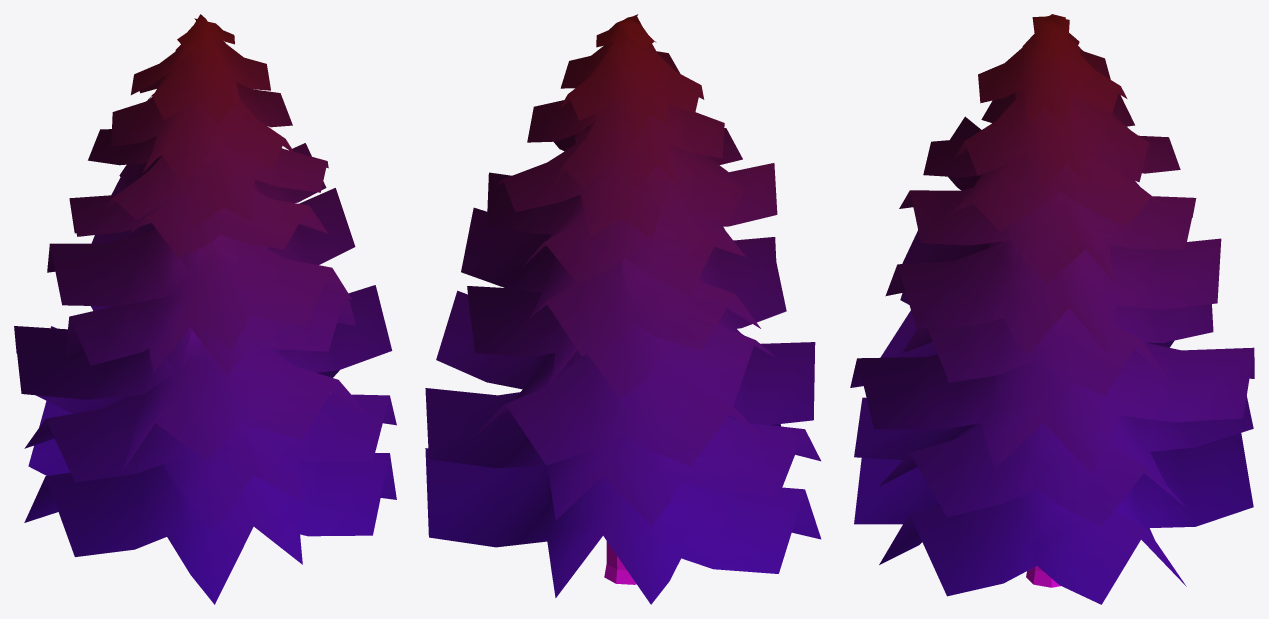
Rendered from synty-tree-pine-02.gltf.
3 renders of one model, left to right at view 1: azimuth 30°, elevation 25°; view 2: azimuth 150°, elevation 25°; view 3: azimuth 270°, elevation 25°, orthographic. The views are drawn at different scales.
Parts seen in each view (by area): view 1: SM_Tree_Pine_02; view 2: SM_Tree_Pine_02; view 3: SM_Tree_Pine_02.
Boxes of the visible parts, left/top/right/bottom form: SM_Tree_Pine_02: left=14, top=14, right=396, bottom=604; SM_Tree_Pine_02: left=425, top=14, right=821, bottom=604; SM_Tree_Pine_02: left=850, top=14, right=1254, bottom=604.
Size of the model in its own units: 2.99 by 4.59 by 3.
